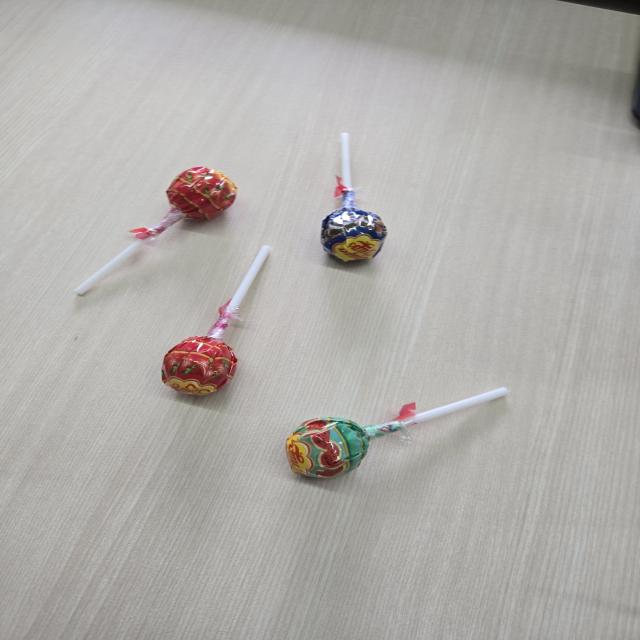lollipop: (284, 384, 511, 491), (71, 160, 242, 299), (160, 244, 276, 402), (317, 129, 391, 264)
